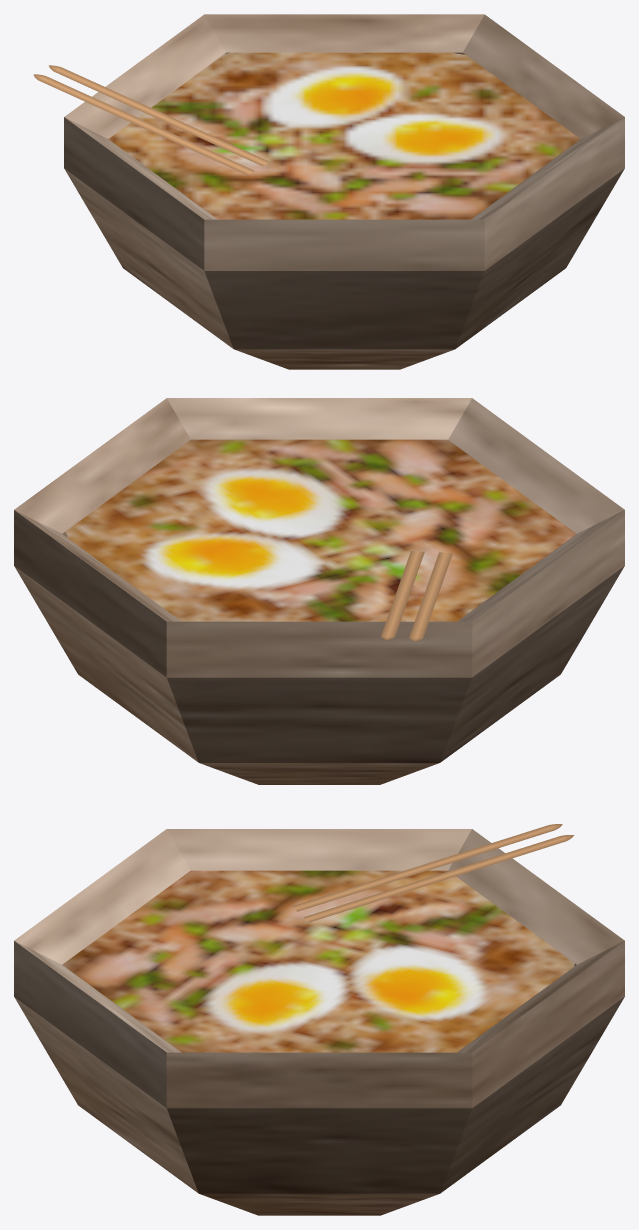
The model's file is PS1RamenBowl.fbx.
3 views of the same model, one above another, from view 1: azimuth 30°, elevation 25°; view 2: azimuth 150°, elevation 25°; view 3: azimuth 270°, elevation 25° (orthographic). The views are drawn at different scales.
Visible parts, largest first — view 1: Cylinder; view 2: Cylinder; view 3: Cylinder.
Part boxes in pixels (x1,y1,x2,y2): Cylinder: (33, 14, 624, 369); Cylinder: (14, 398, 624, 784); Cylinder: (14, 824, 624, 1215).
Size of the model in its own units: 176 by 87.59 by 200.
Materials: 1 (1 with a texture image).
